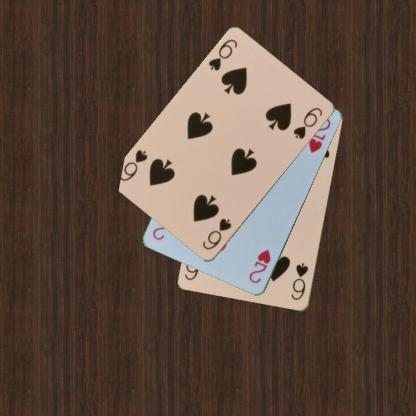2h: (246, 247, 272, 285)
6s: (200, 216, 233, 251), (206, 36, 238, 72), (288, 260, 310, 302)
